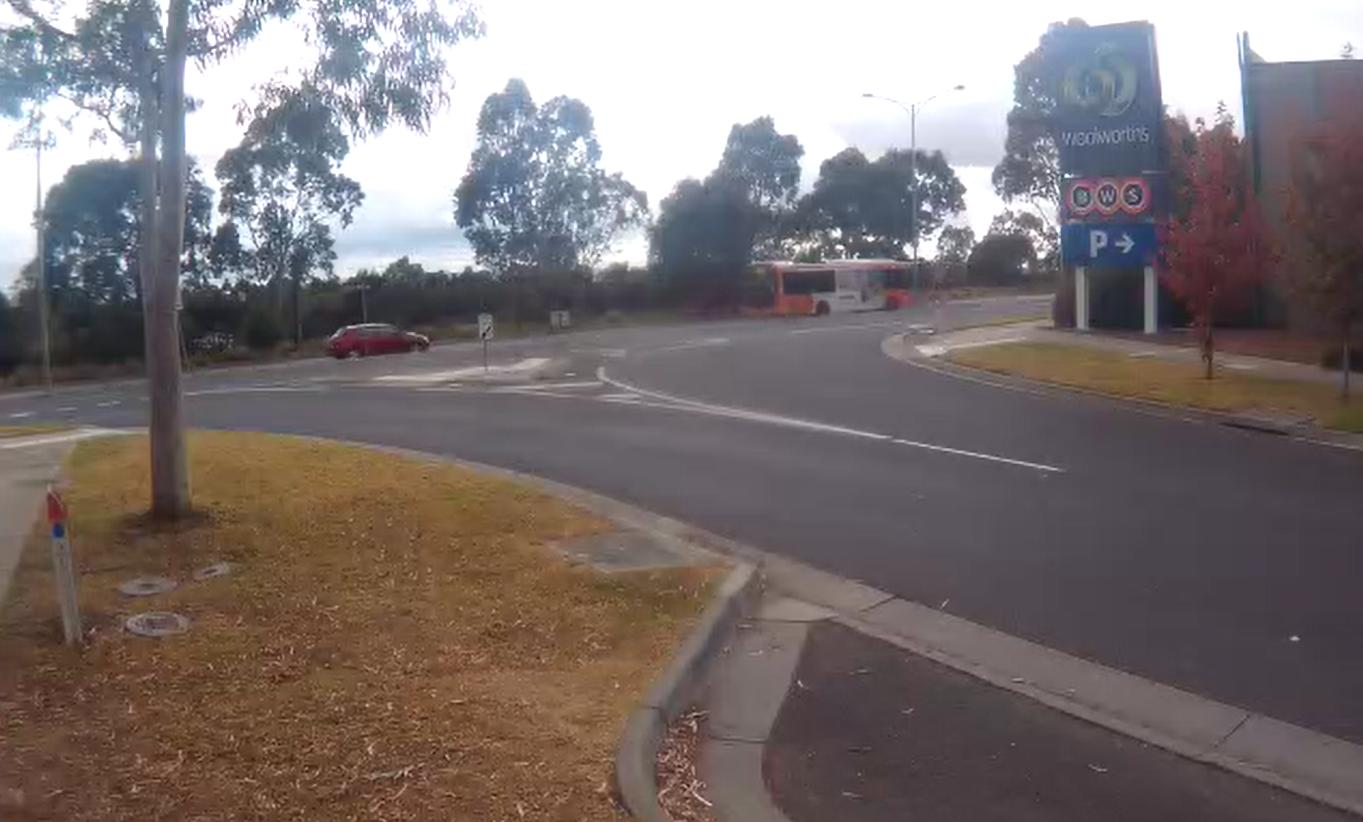VEHICLE TYPE 1: (324, 320, 436, 360)
VEHICLE TYPE 3: (739, 259, 921, 316)
